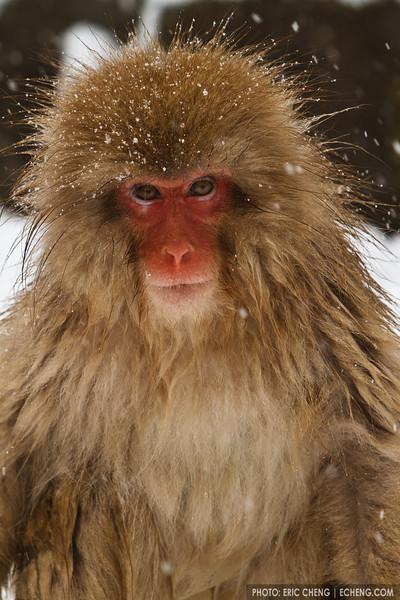monkey: (26, 39, 400, 588)
